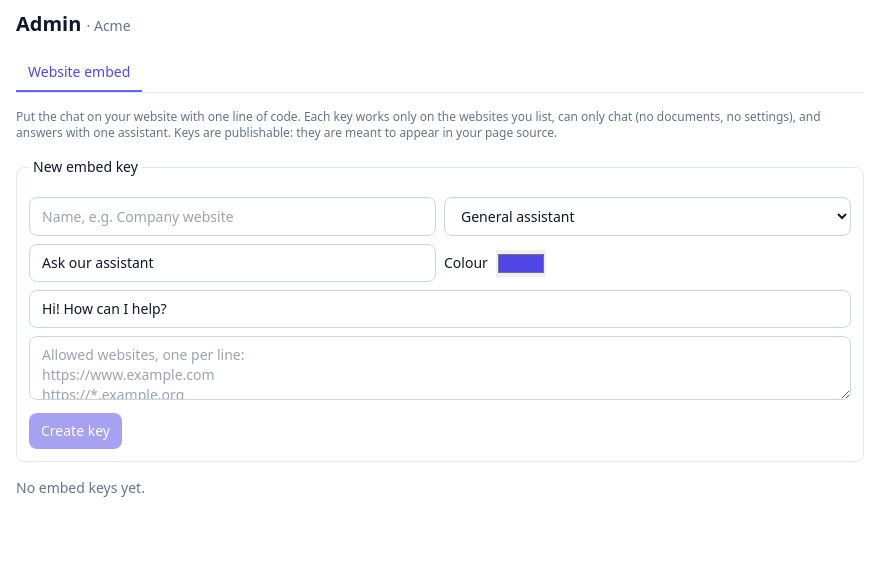
Test: Admin > Website embed › shows the server's validation message for a bad origin
Type "x" into the field named "Key name" at (232, 216), box [29,197,436,236]
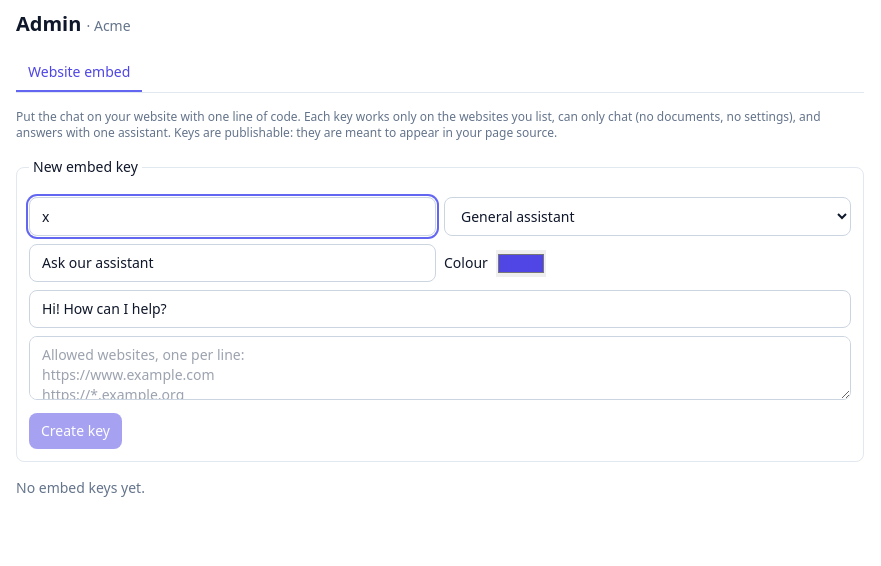
Type "example.com" into the text box labelled "Allowed websites" at (440, 368), box [29,336,851,400]
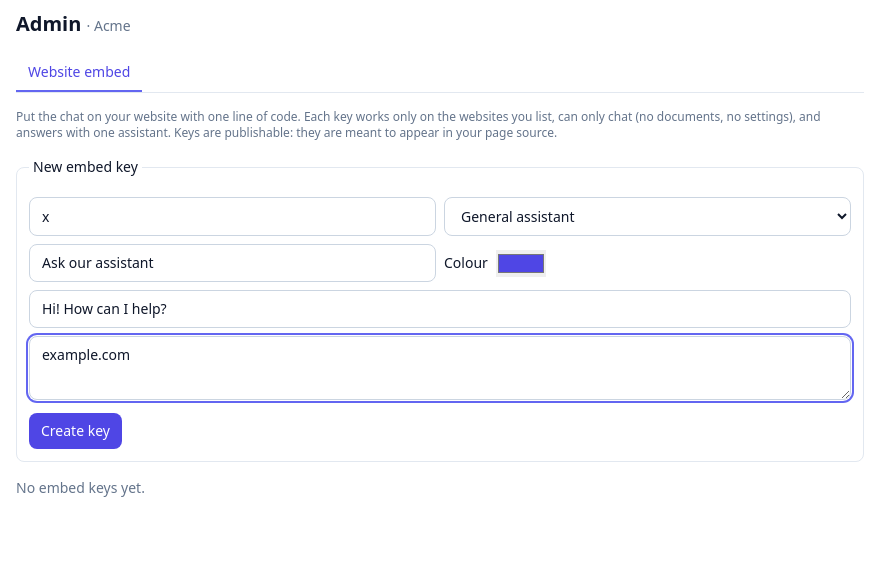
Click the button "Create key" at (75, 431), box [29,413,122,449]
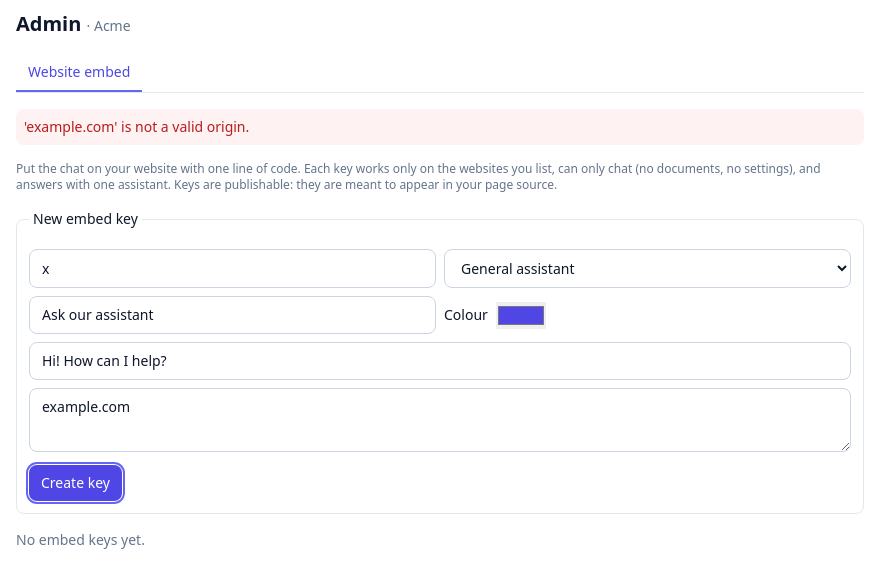
Expected: the message shows "not a valid origin", [24,117,249,136]
